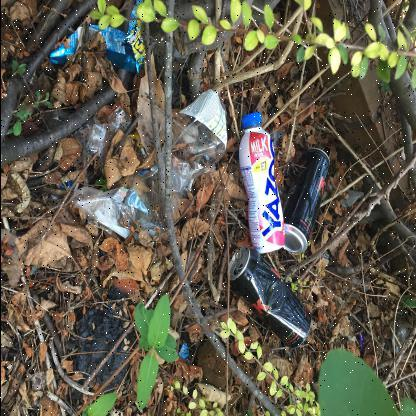metal: (226, 246, 310, 348), (280, 148, 330, 254)
plastic: (238, 111, 284, 255)
